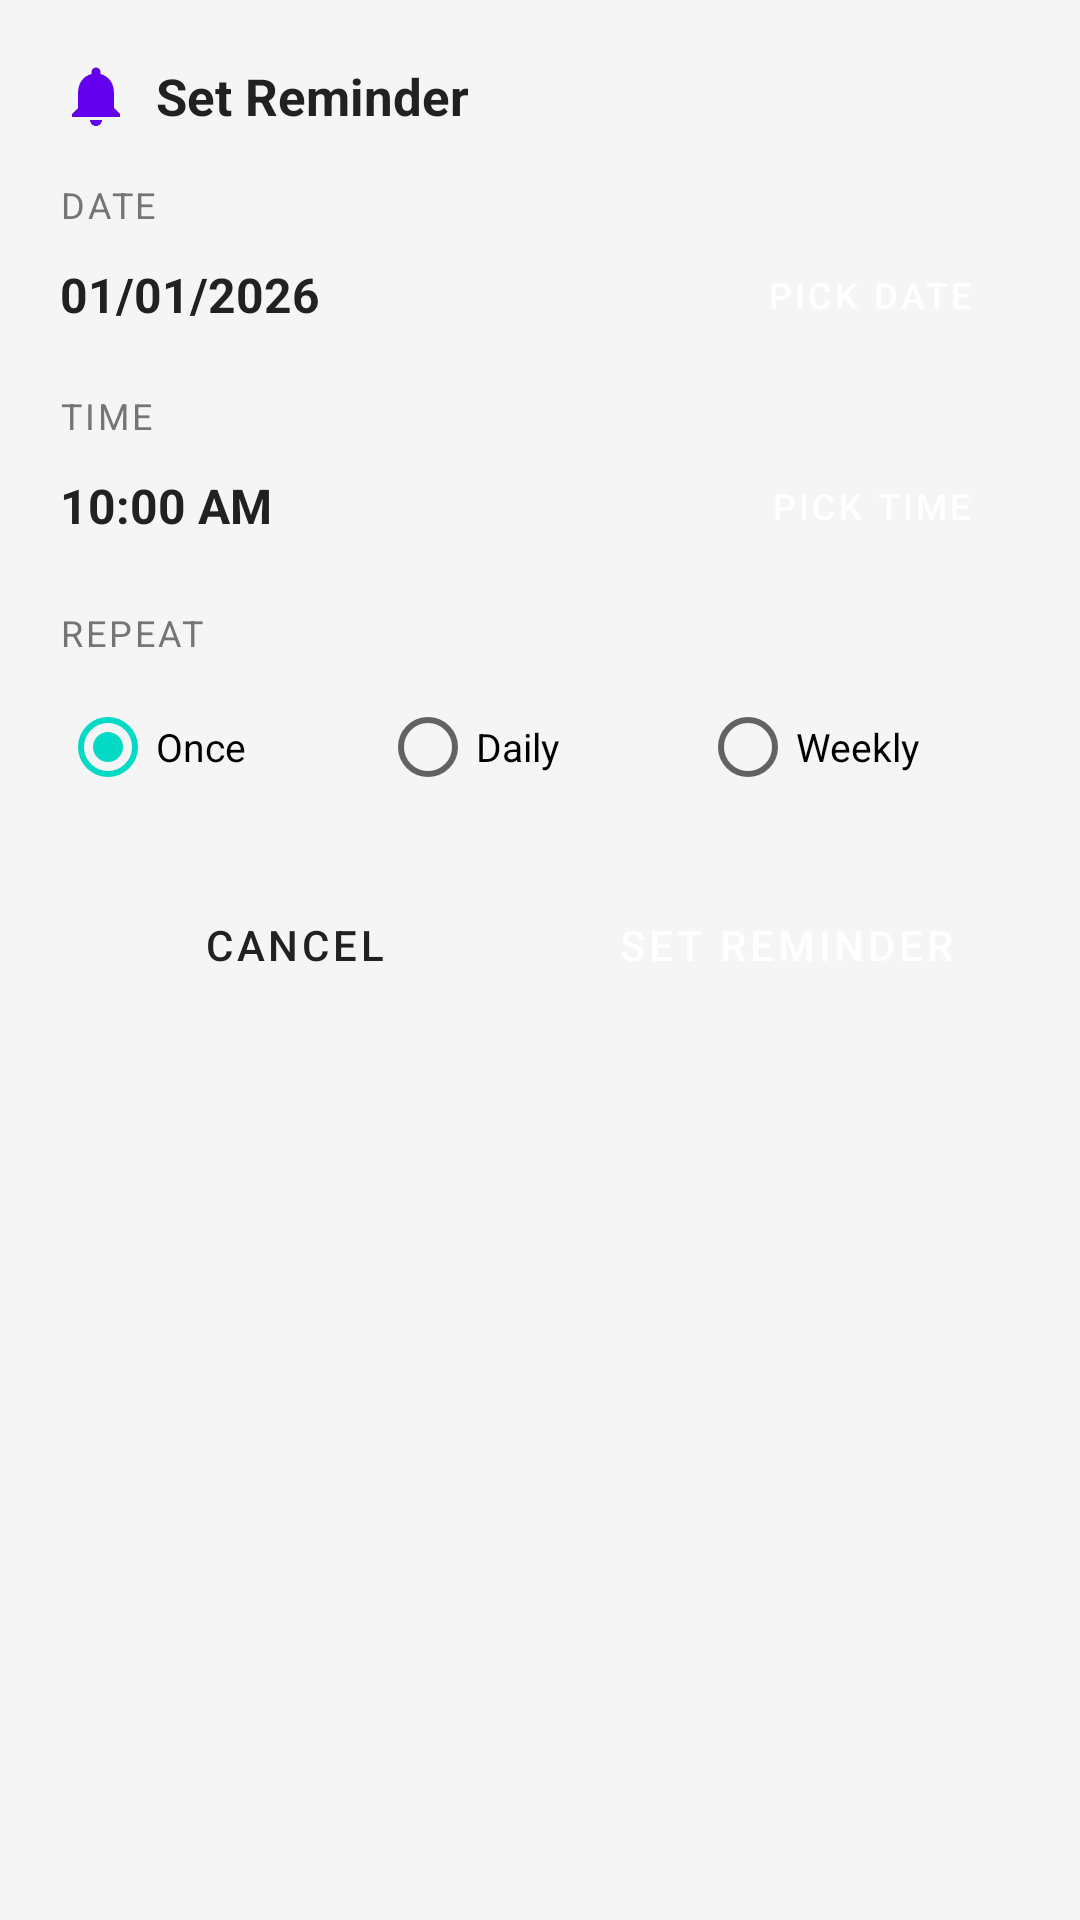

Icons on this 1080 x 1920 Android screen, each with the point to tap as point (x, y):
notification: point (96, 96)
